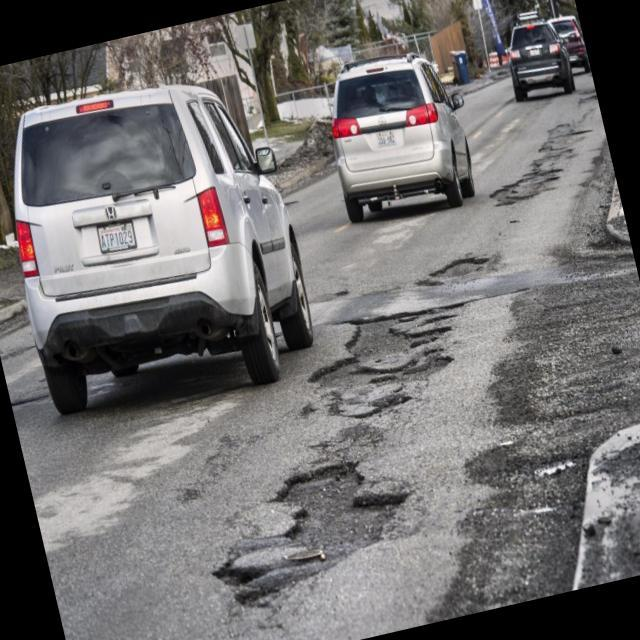Pothole: (182, 442, 414, 618), (300, 270, 495, 439), (476, 108, 608, 222), (405, 228, 518, 298)
